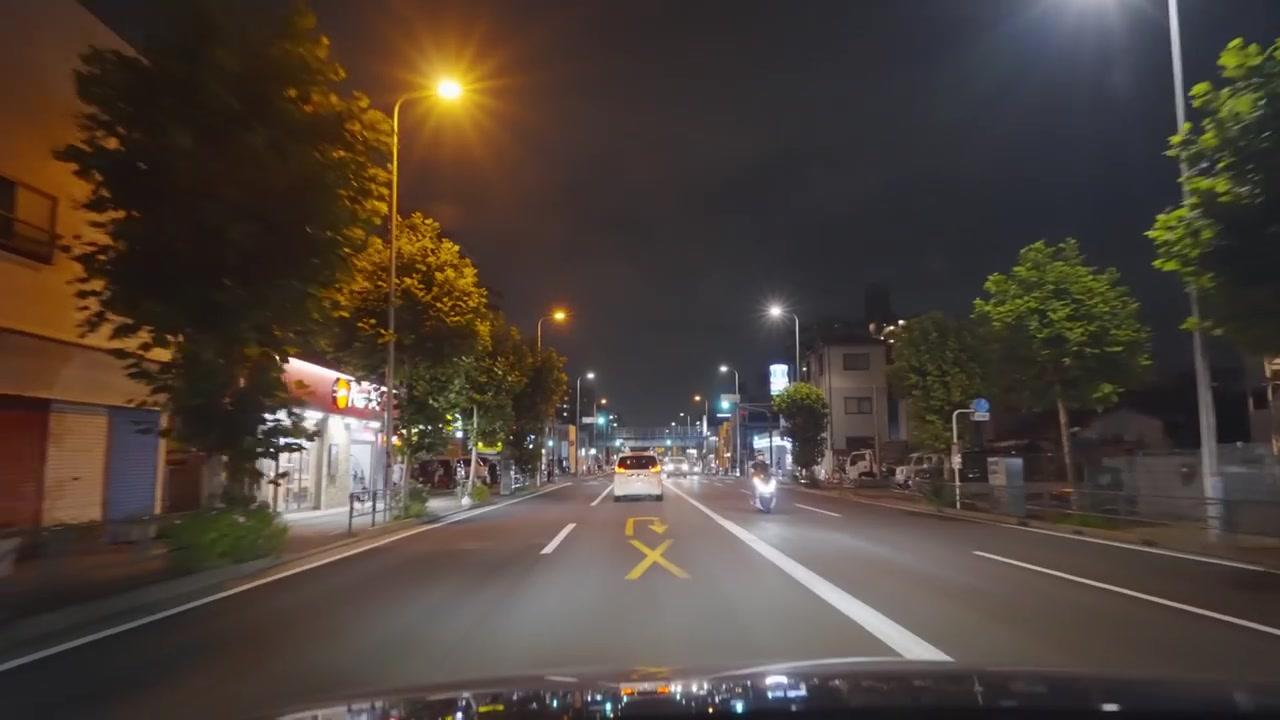car: (612, 452, 665, 501), (664, 458, 690, 478)
motorcycle: (750, 464, 778, 513)
person: (751, 456, 776, 512)
traffic light: (331, 376, 351, 410)
